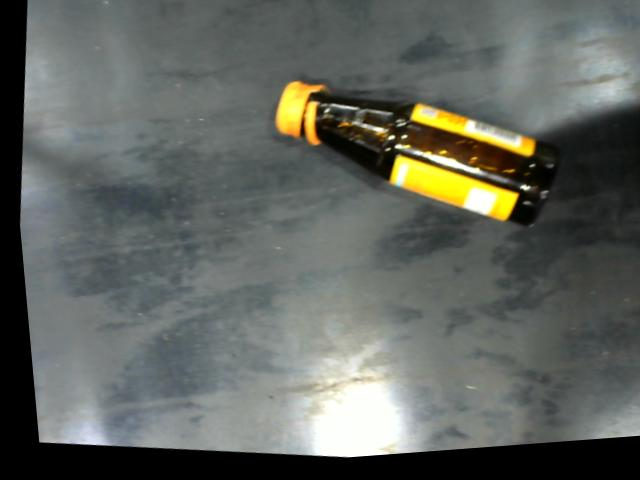glass: (270, 83, 559, 240)
